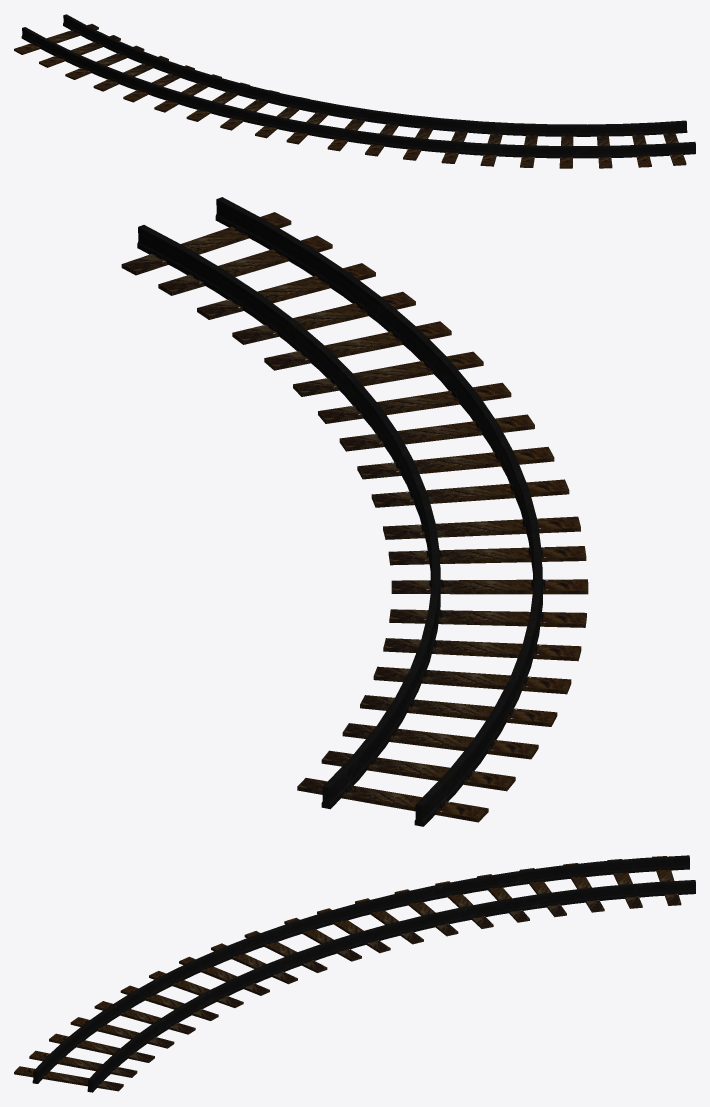
The model's file is track3.gltf.
The picture shows the model from 3 angles, top to bottom: view 1: azimuth 30°, elevation 25°; view 2: azimuth 150°, elevation 25°; view 3: azimuth 270°, elevation 25°; orthographic projection. The views are drawn at different scales.
Visible parts, largest first — view 1: Track_01polySurface161_lambert1_0.003; view 2: Track_01polySurface161_lambert1_0.003; view 3: Track_01polySurface161_lambert1_0.003.
Part boxes in pixels (x1,y1,x2,y2): Track_01polySurface161_lambert1_0.003: (14,14,695,168); Track_01polySurface161_lambert1_0.003: (121,197,588,826); Track_01polySurface161_lambert1_0.003: (14,855,695,1092).
Size of the model in its own units: 198 by 5.12 by 243.
Materials: 1 (1 with a texture image).
